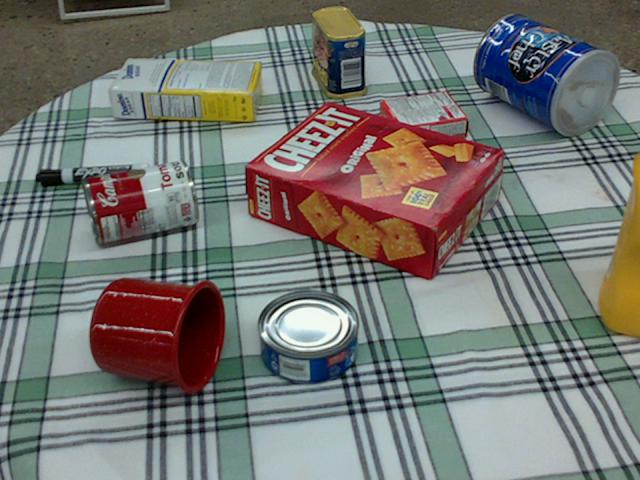cracker_box: (246, 99, 503, 277)
gelatin_box: (377, 87, 467, 148)
large_marker: (35, 162, 148, 186)
master_chef_can: (472, 15, 617, 135)
mug: (89, 276, 225, 392)
mustard_bottle: (597, 150, 639, 334)
potted_meat_can: (309, 5, 367, 98)
sugar_box: (109, 58, 263, 119)
tomato_soup_can: (81, 158, 197, 243)
tuna_fish_can: (256, 289, 358, 384)
